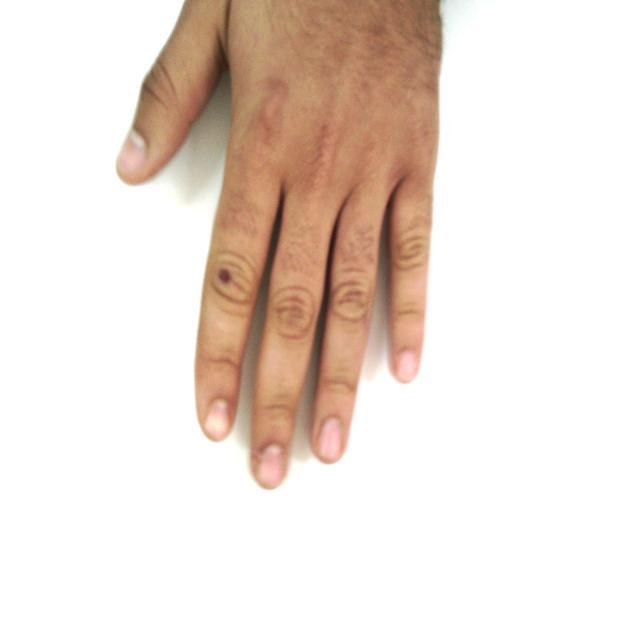Fingernail: (120, 130, 146, 172), (259, 445, 283, 487), (320, 418, 342, 460), (206, 402, 229, 439), (398, 352, 417, 381)
